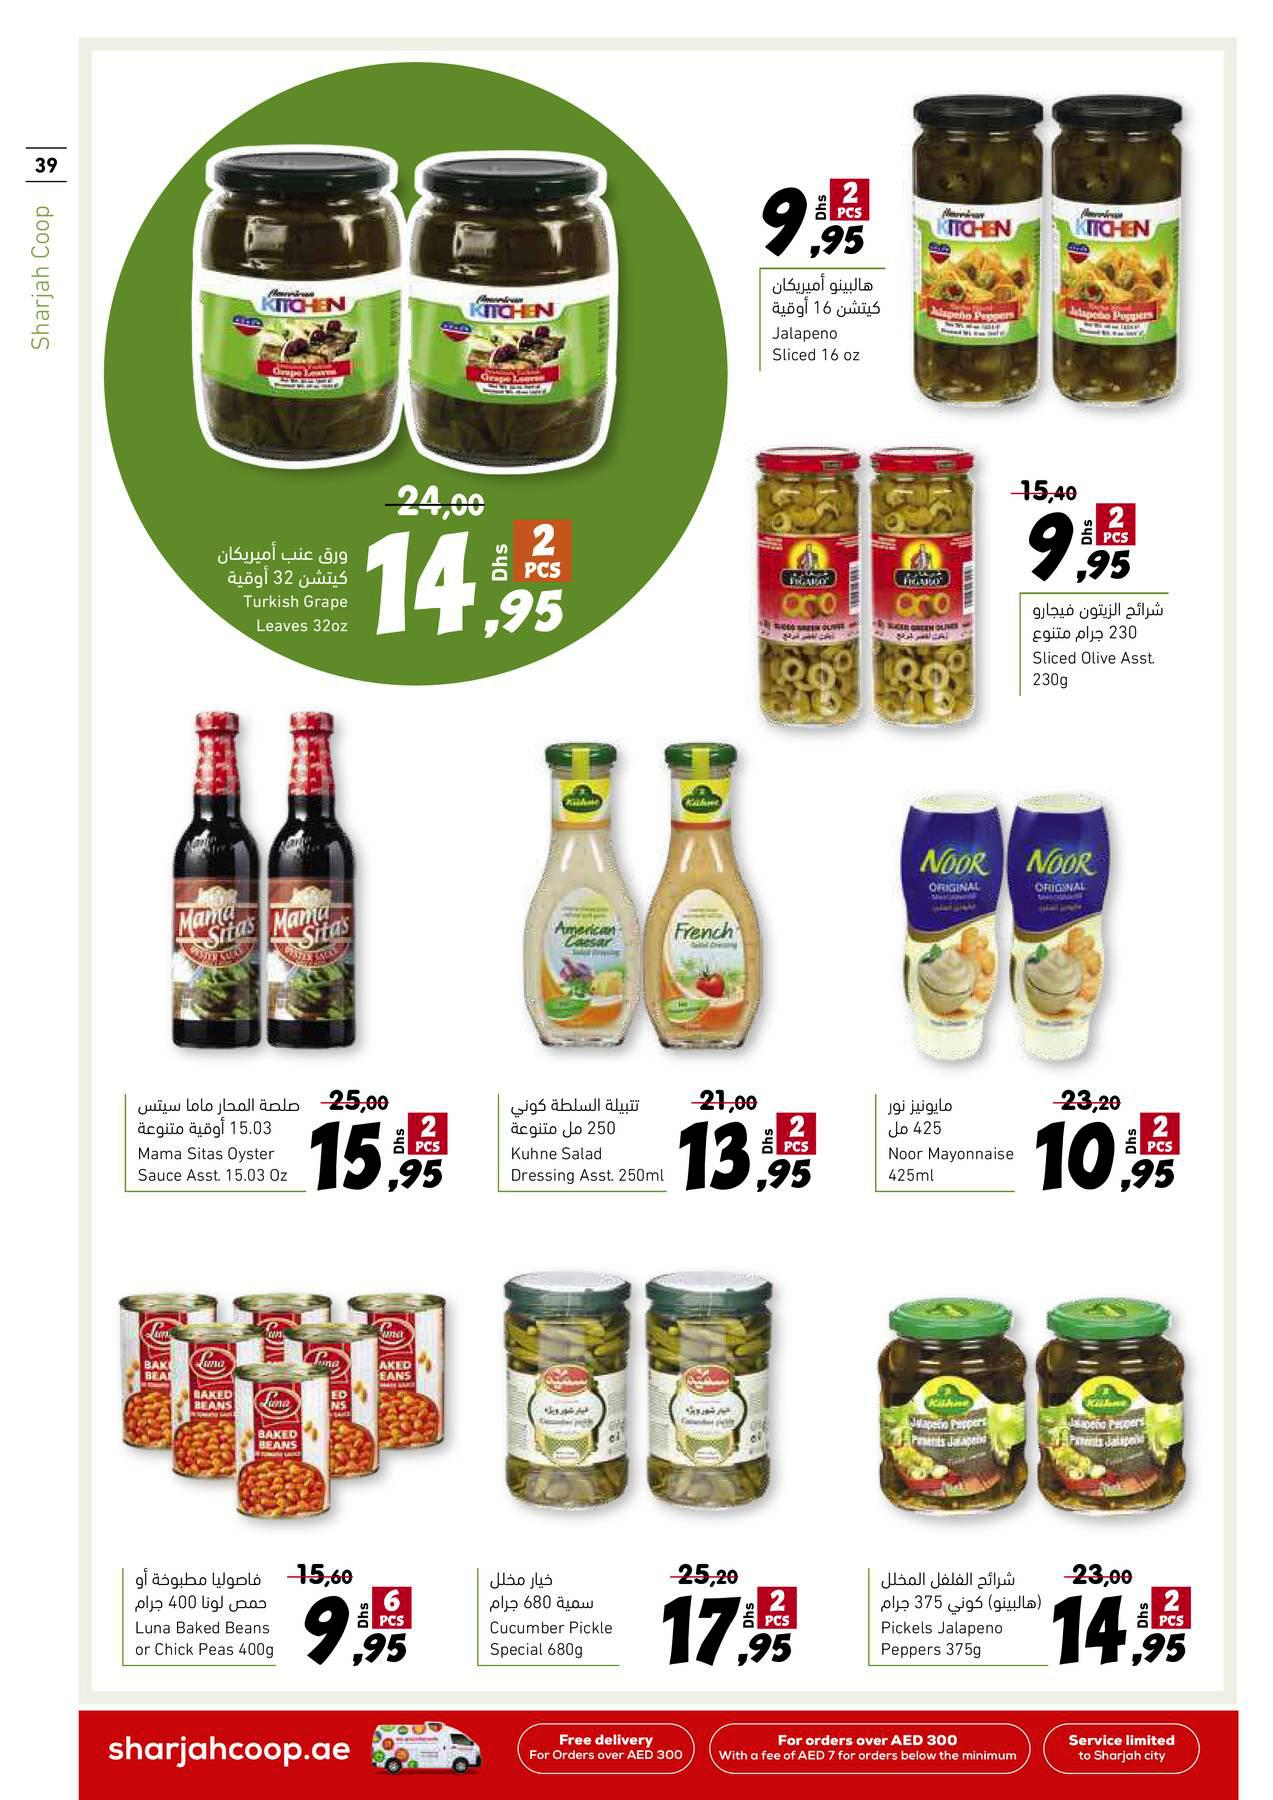text: (873, 1566, 1051, 1665), (131, 1092, 306, 1189), (506, 1089, 675, 1189), (209, 536, 361, 643), (127, 1560, 282, 1664), (482, 1563, 623, 1665), (1025, 596, 1170, 693), (880, 1091, 1021, 1189), (766, 271, 884, 369)
